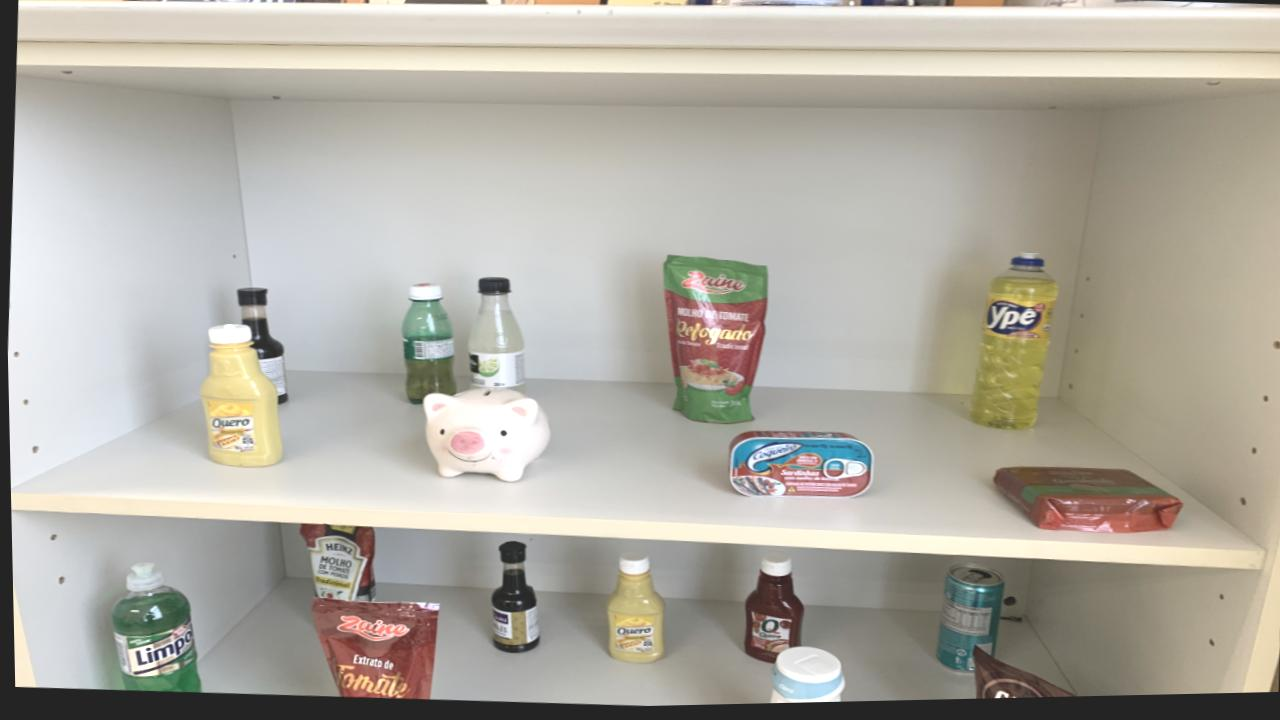Cleaner-Cleanup_Items: (766, 650, 840, 707)
Coffee-Pantry_Items: (970, 653, 1073, 703)
Detergent-Cleanup_Items: (967, 257, 1056, 435), (109, 564, 197, 693)
English_Sauce-Pantry_Items: (235, 290, 285, 404), (487, 543, 536, 656)
Guarana-Drinks: (399, 286, 455, 406)
Guava-Snacks: (992, 471, 1179, 538)
Ketchup-Pantry_Items: (741, 556, 800, 666)
Mustard-Pantry_Items: (197, 325, 280, 468), (604, 554, 662, 666)
Pig_Safe-Miscellaneous: (421, 390, 548, 485)
Soda-Drinks: (466, 279, 523, 391)
Tea-Drinks: (933, 568, 1001, 677)
Tomato_Sauce-Pantry_Items: (661, 260, 766, 427), (309, 598, 435, 701), (297, 524, 373, 604)
Tuna_Can-Pantry_Items: (727, 435, 870, 501)
